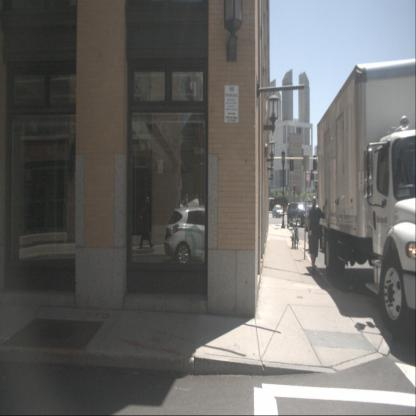human-pedestrian-adult: (306, 195, 326, 275), (139, 196, 155, 249)
vehicle-bicycle: (292, 218, 300, 250), (290, 221, 297, 249)
vehicle-car: (164, 205, 238, 268), (287, 201, 314, 228), (272, 205, 285, 218)
vehicle-truck: (317, 58, 415, 338)
